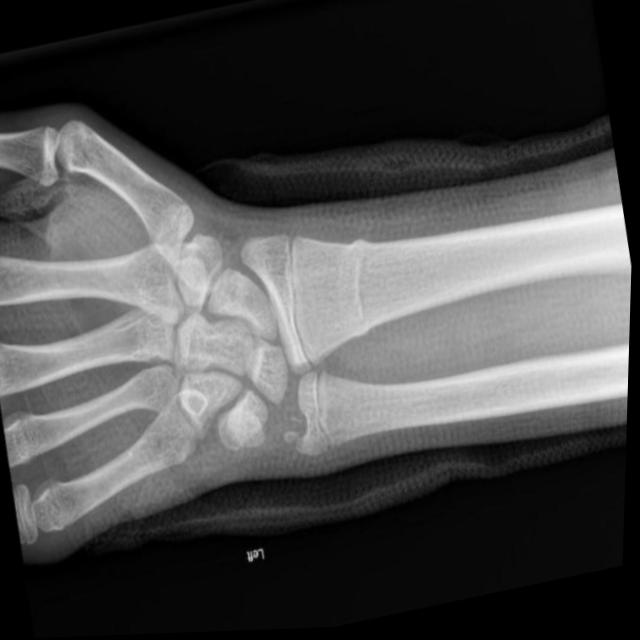fracture: (342, 234, 385, 338)
